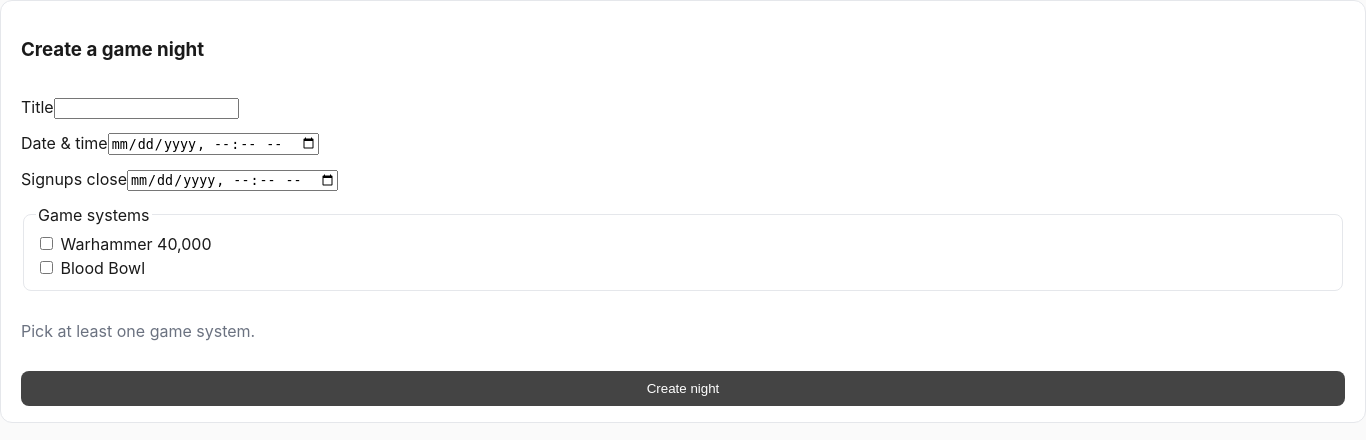
Scenario: CreateNightForm › requires at least one system (button disabled until one is picked)
This screenshot has width=1366, height=440.
Type "Thursday Night" into the field labelled "Title" at [146, 108], box x1=54 y1=98 x2=239 y2=118
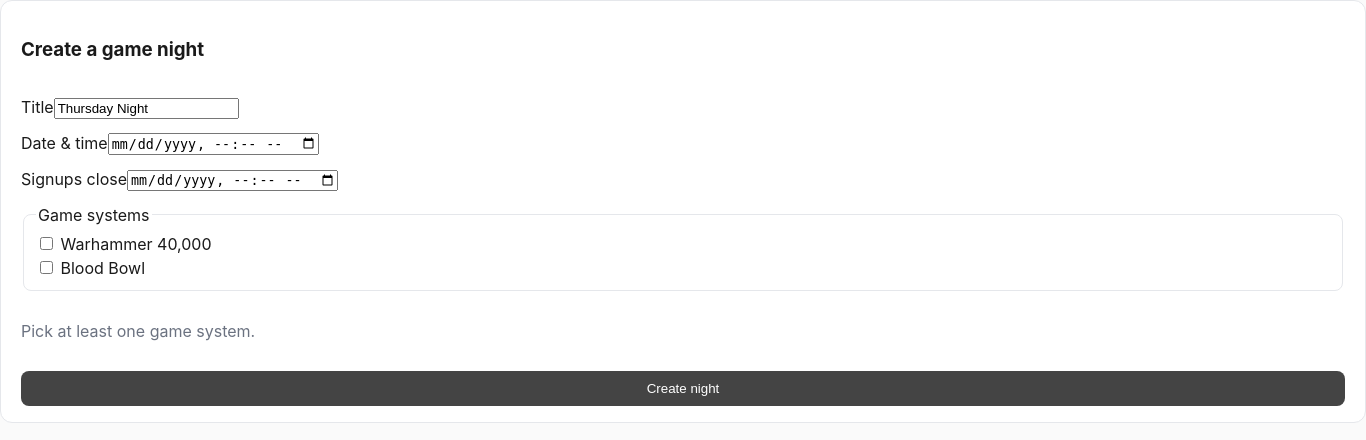
Type "2026-07-02T18:00" into the field labelled "Date & time" at [213, 144], box x1=108 y1=133 x2=319 y2=155
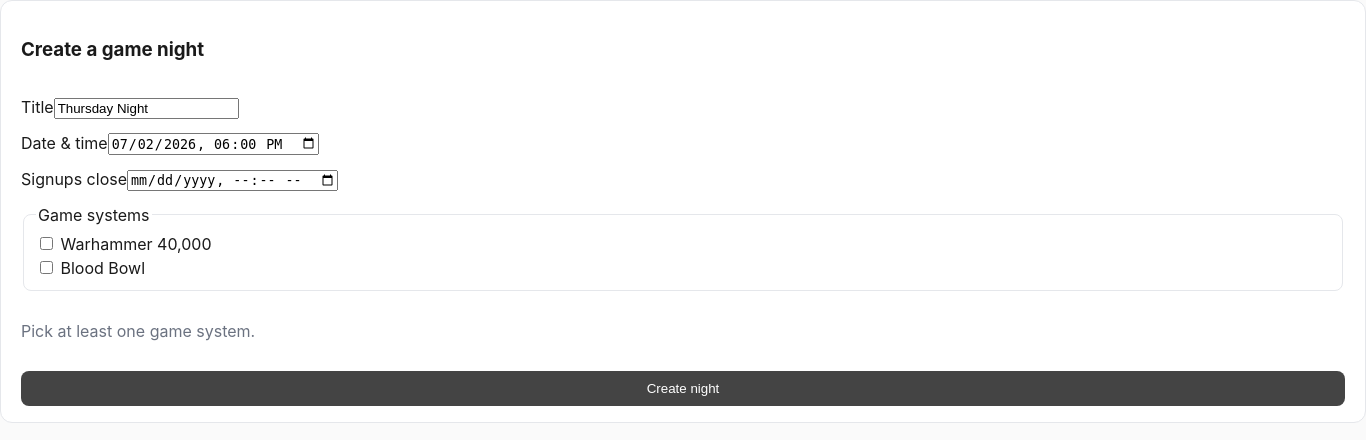
Type "2026-07-02T12:00" into the field labelled "Signups close" at [233, 180], box x1=127 y1=170 x2=338 y2=191
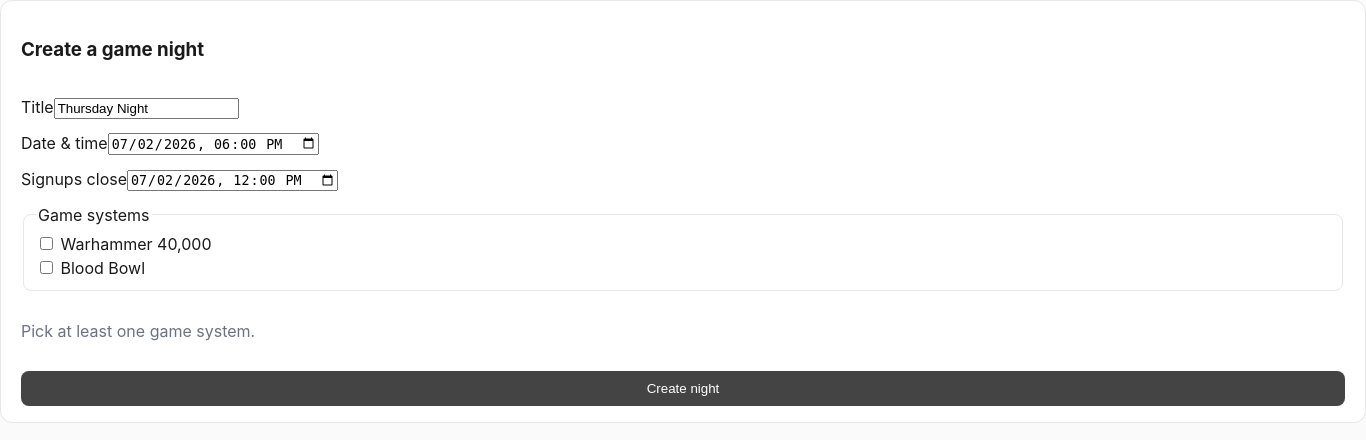
Expected: the button "Create night" is disabled, x1=21 y1=372 x2=1345 y2=406
Click the checkbox labelled "Warhammer 40,000" at [46, 244], box x1=40 y1=238 x2=53 y2=250
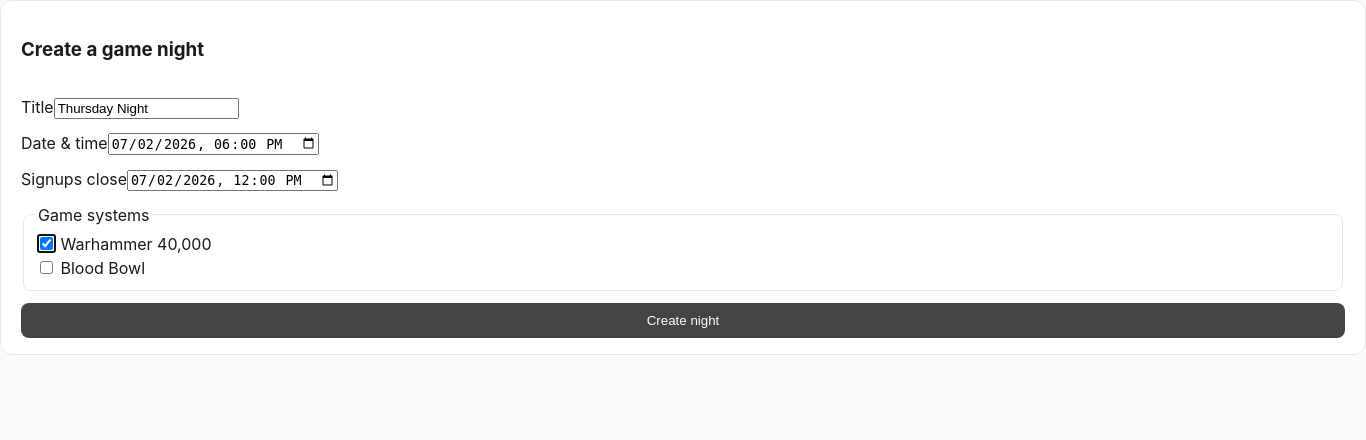
Now the button "Create night" is enabled, box x1=21 y1=304 x2=1345 y2=338
